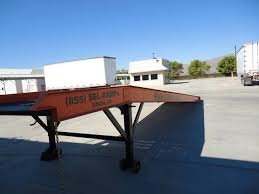Yard Ramp: (3, 85, 200, 124)
